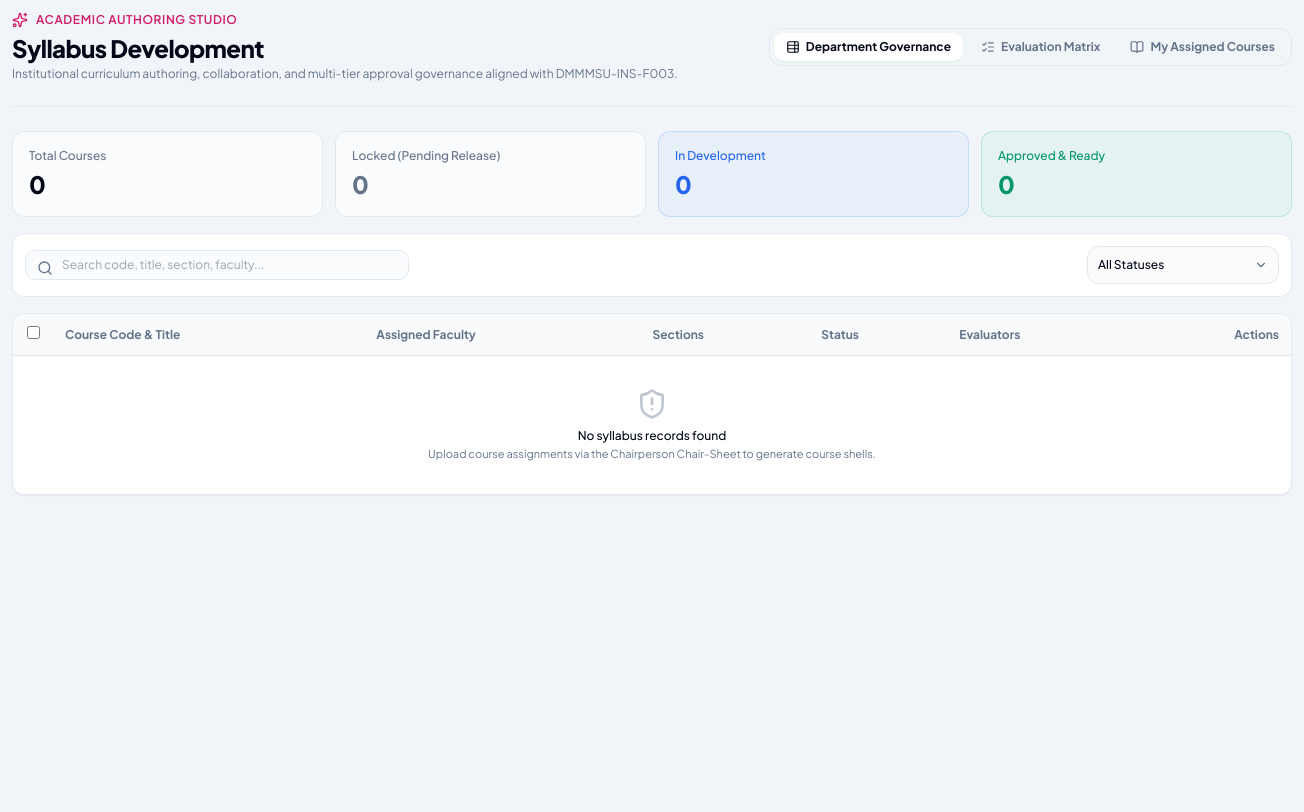
SyllabusCreatorPage › shows the Evaluation Matrix tab to chairs only
Click the button "Evaluation Matrix". click: (1041, 47)
box: [969,33,1112,61]
(page scrolled)
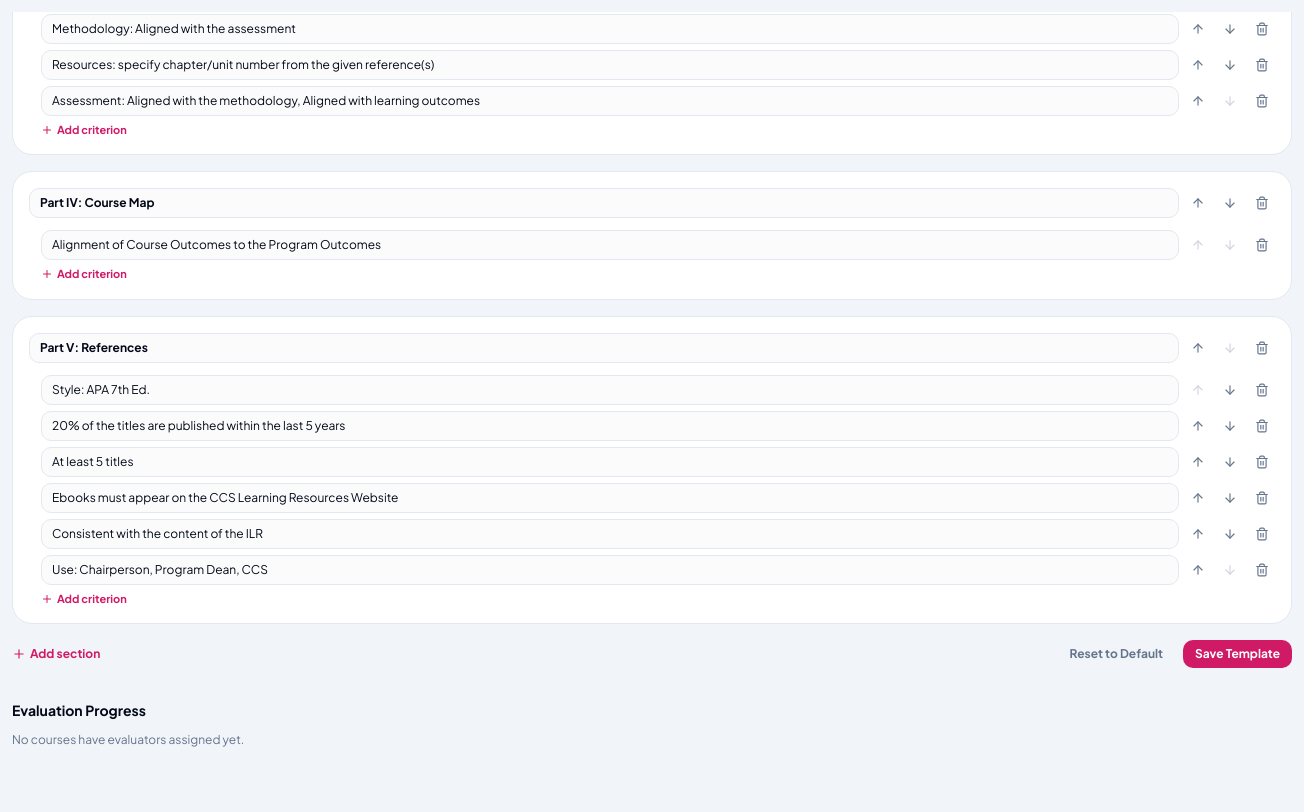
Check: the button "Save Template" is shown, box [1183,640,1292,668]
